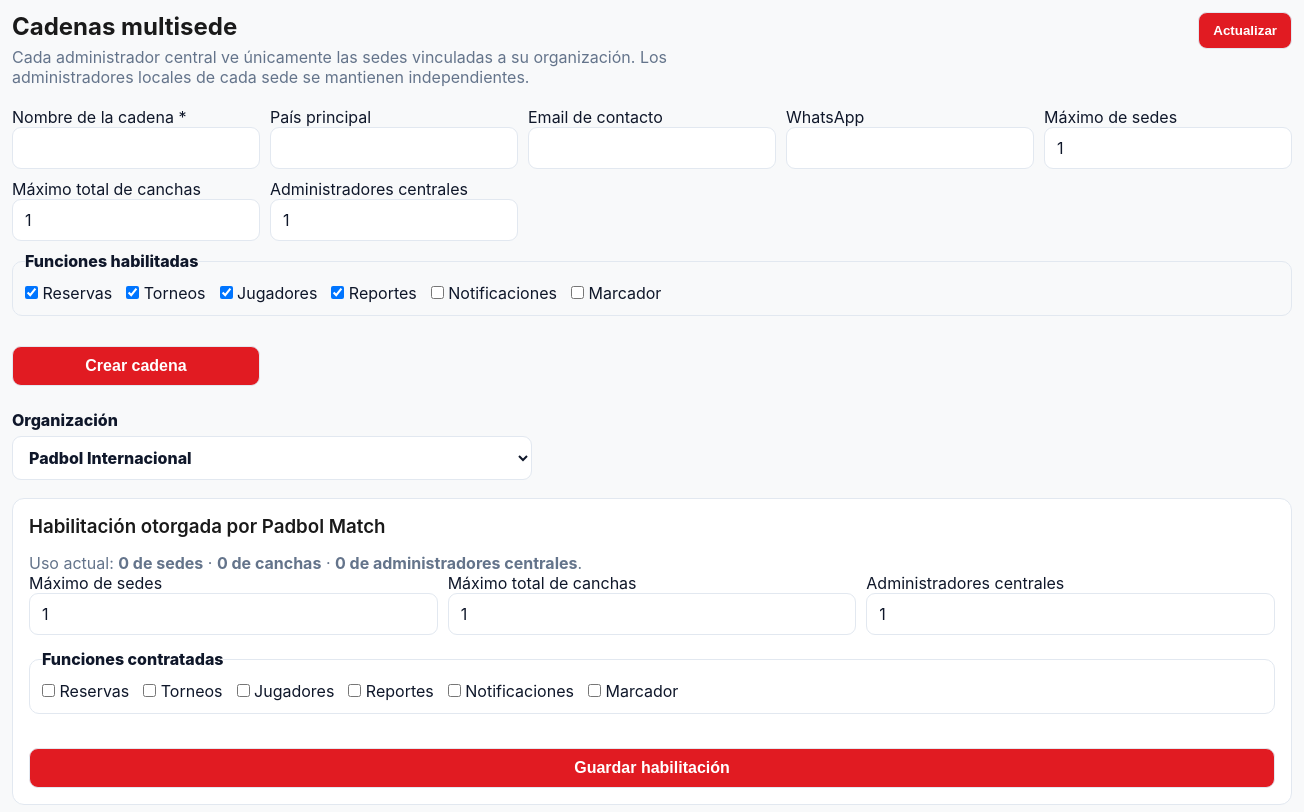
Test: failed refresh removes stale organization controls until a valid reload
Click the button "Actualizar": (1245, 30) [1198,12,1292,49]
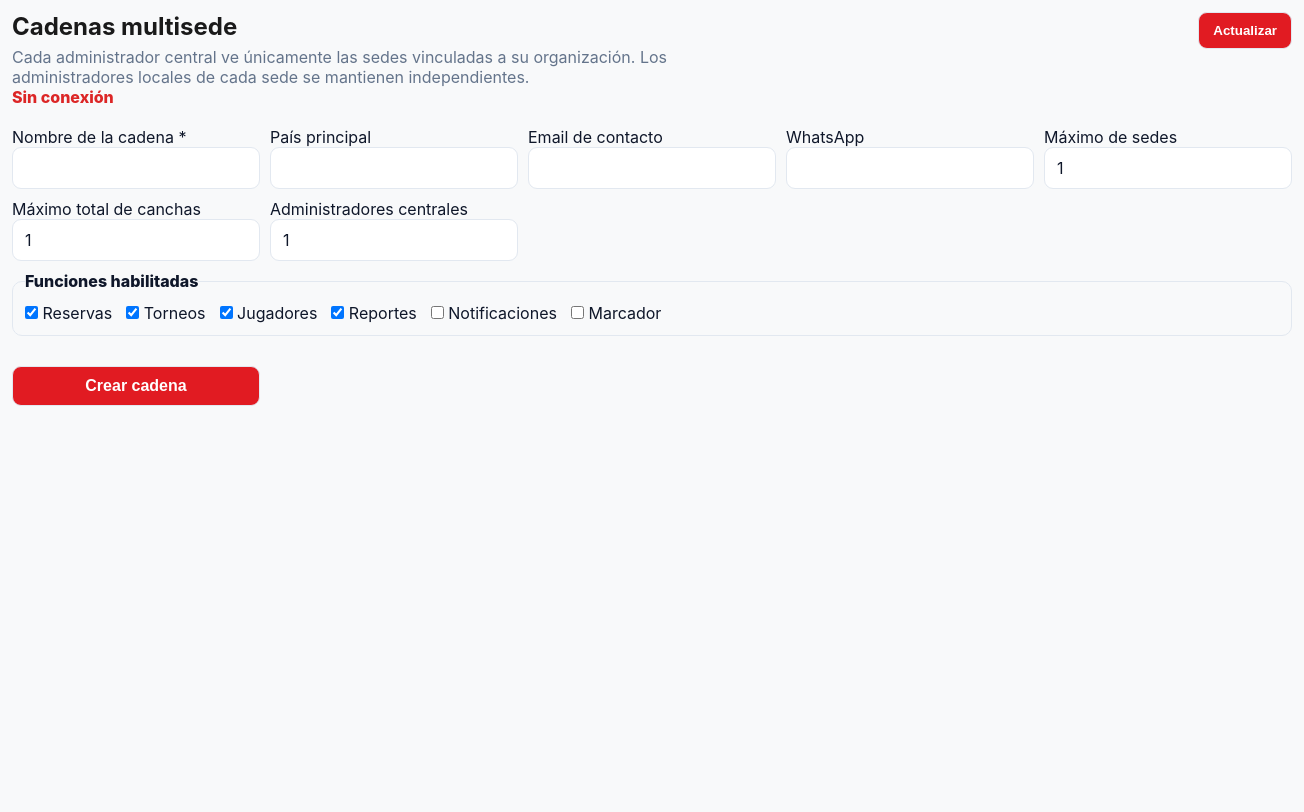
Expected: the message "Sin conexión" is shown, [12,87,114,107]
Expected: the button "Guardar habilitación" is gone
Expected: the button "Crear cadena" is disabled, [12,366,260,406]
